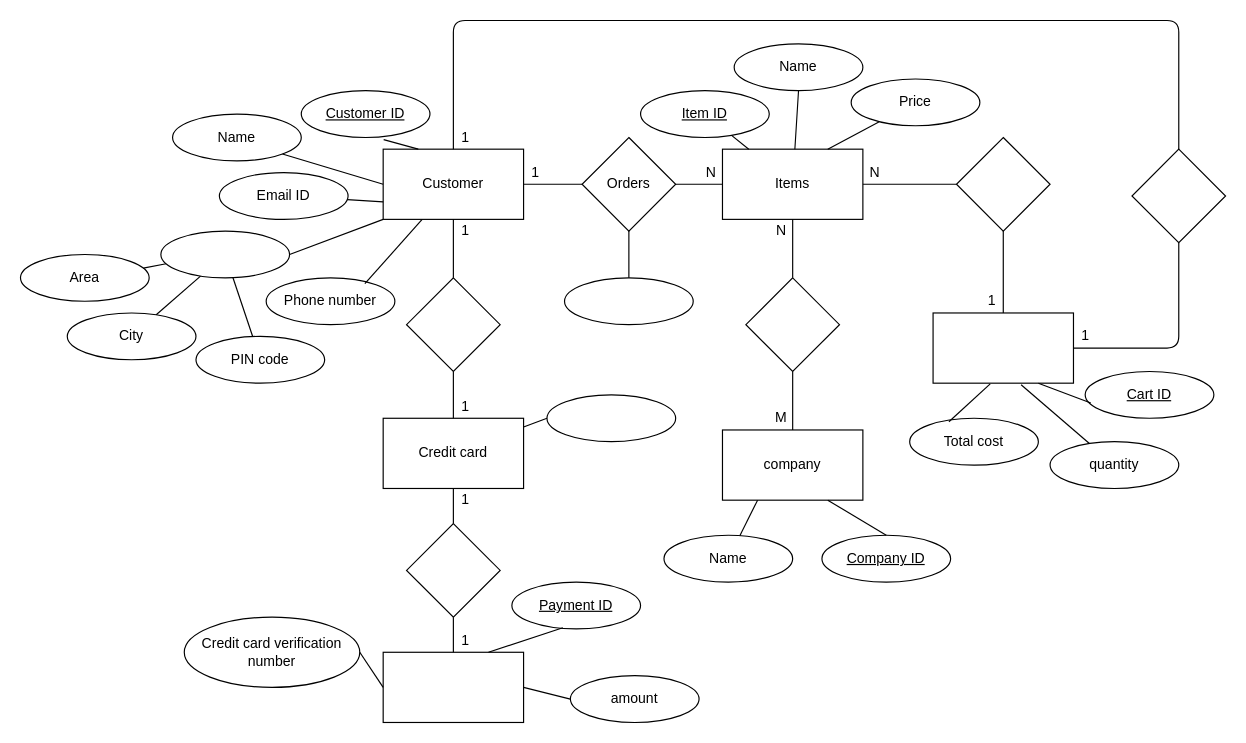
This 1246x743 diagram has some shape labels left out. The box of each missing label's shape, as (x1, y1, x2, y2) in pixels:
added to: (955, 136, 1050, 231)
Address: (160, 230, 290, 278)
Card ID: (546, 394, 676, 442)
completes: (405, 522, 500, 617)
creates: (1131, 148, 1226, 243)
Order ID: (563, 277, 693, 325)
Payment process: (382, 651, 524, 722)
produce: (745, 277, 839, 371)
Shopping carts: (932, 312, 1073, 383)
verifies: (405, 277, 500, 371)
